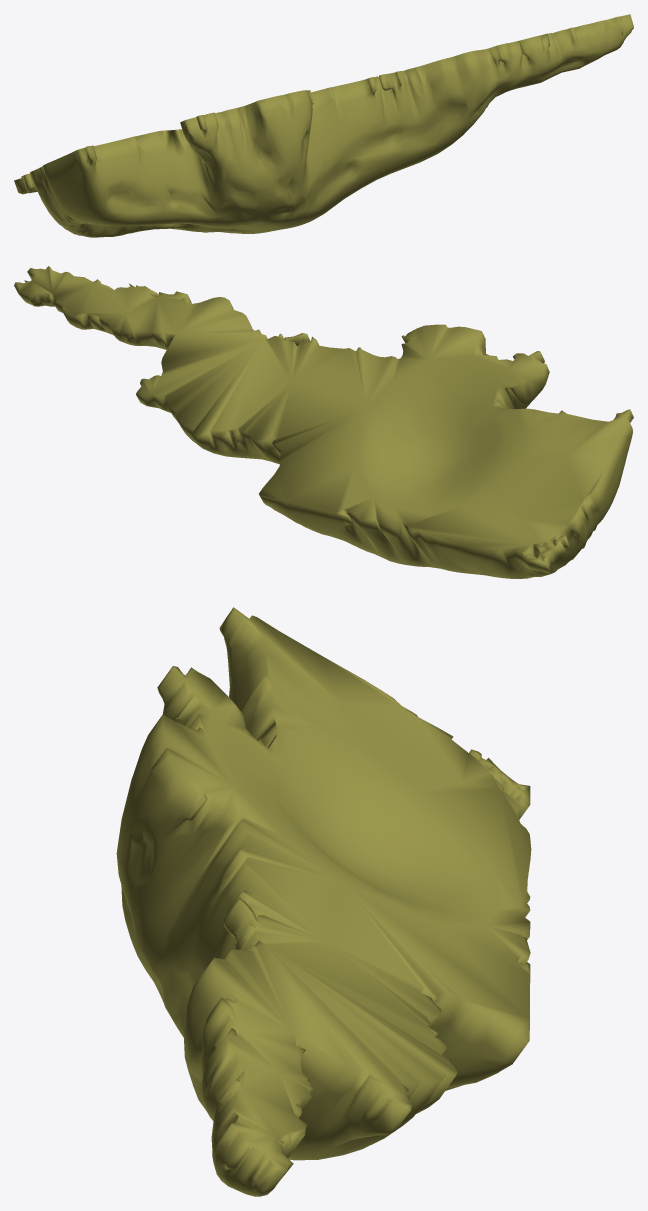
The model's file is row6.obj.
3 renders of one model, top to bottom at view 1: azimuth 30°, elevation 25°; view 2: azimuth 150°, elevation 25°; view 3: azimuth 270°, elevation 25°, orthographic. The views are drawn at different scales.
Visible parts, largest first — view 1: row_6; view 2: row_6; view 3: row_6.
Boxes of the visible parts, x1,y1,x2,y2 form: row_6: (14, 14, 633, 237); row_6: (14, 266, 633, 578); row_6: (116, 607, 531, 1196).
Bounding box in the file's own units: 4.96 × 1.48 × 1.6.
